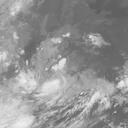cyclone: (32, 56, 86, 107)
